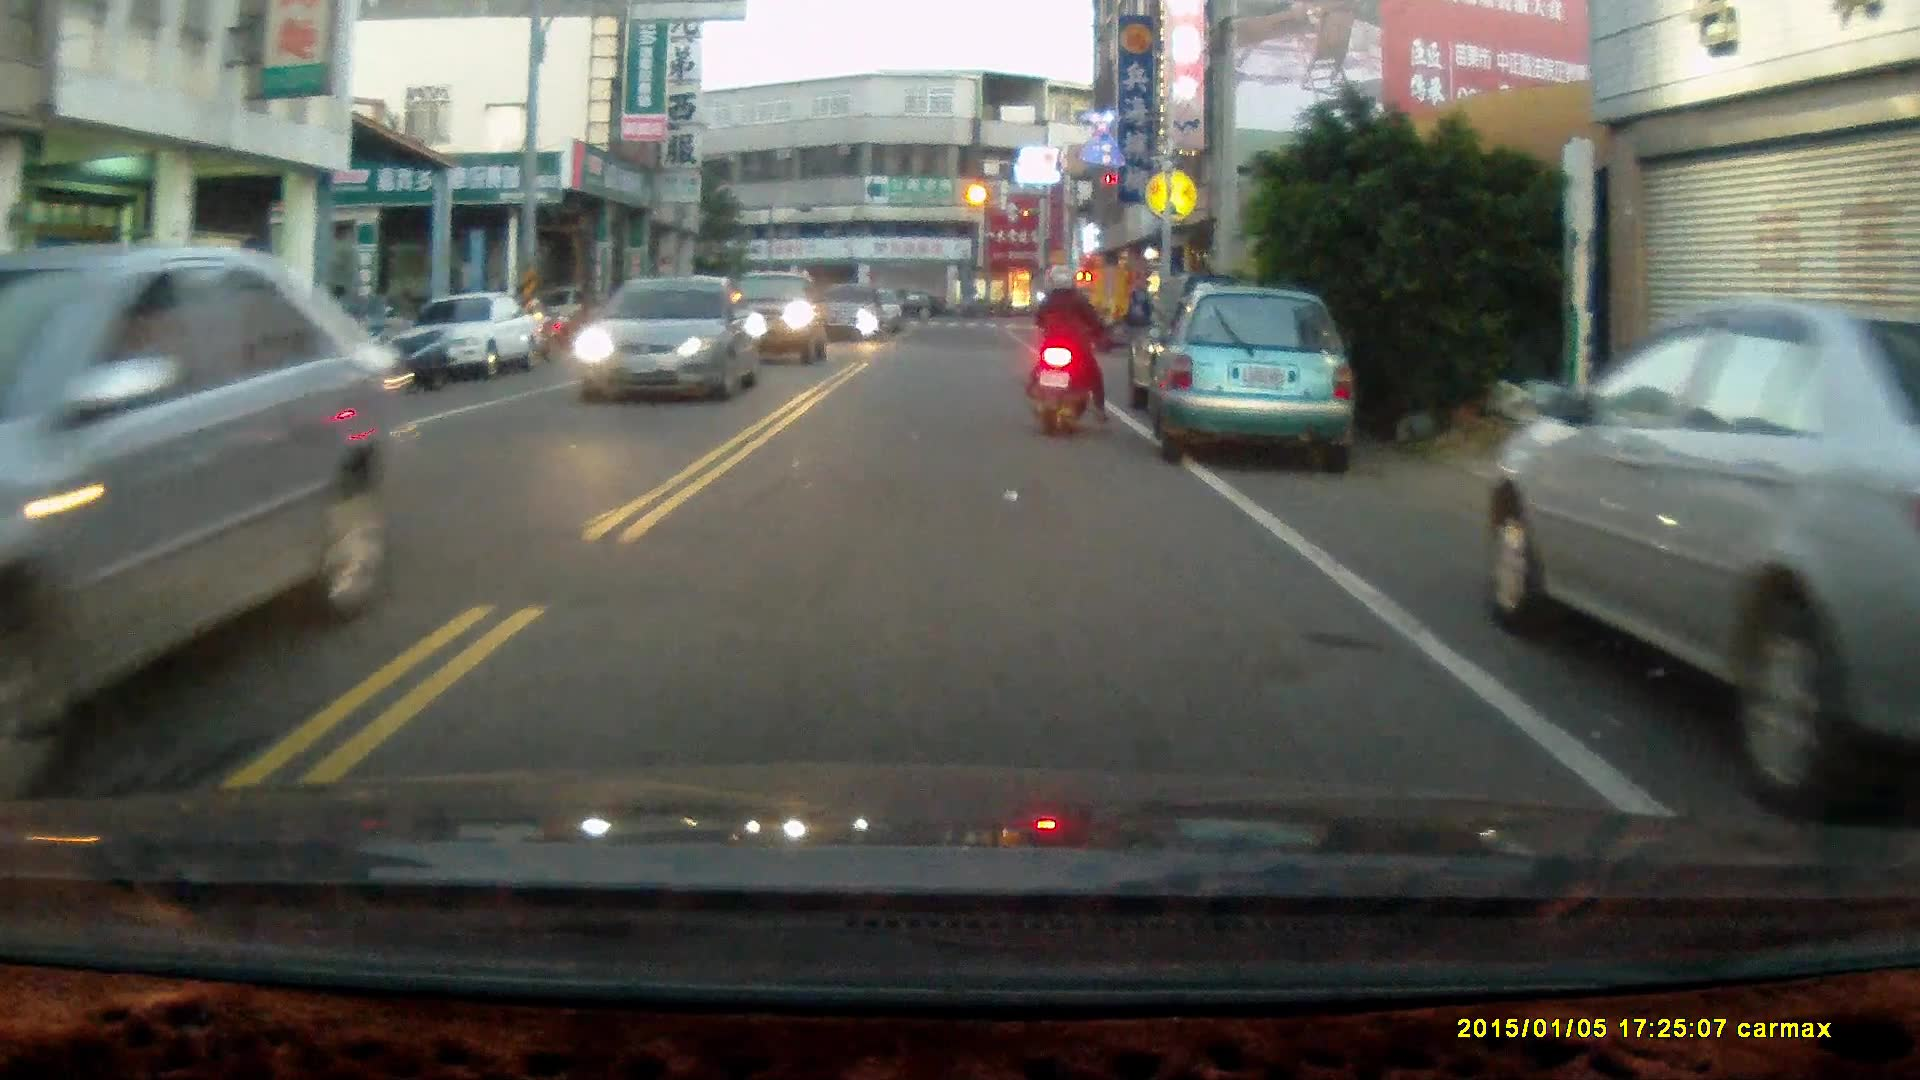rider: (1026, 267, 1111, 437)
vehicle: (1492, 302, 1920, 815), (1, 246, 411, 762), (1155, 280, 1360, 479), (580, 274, 760, 404), (396, 290, 539, 383), (707, 270, 834, 369)
